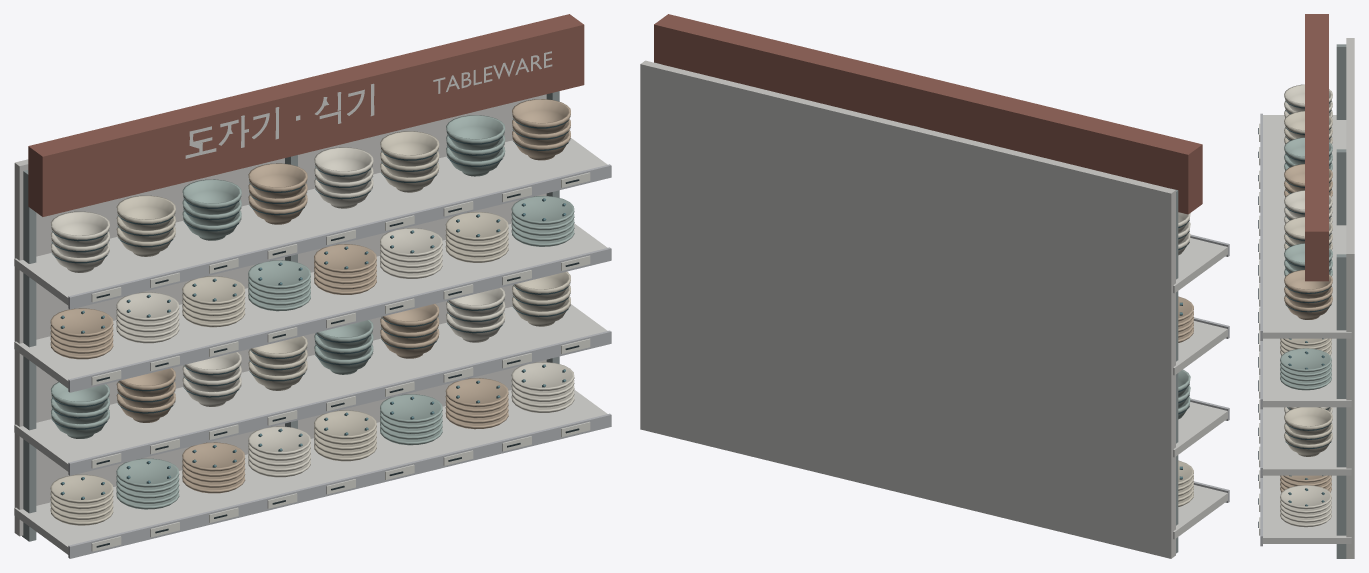
Rendered from Tableware.glb.
3 views of the same model, side by side, from view 1: azimuth 30°, elevation 25°; view 2: azimuth 150°, elevation 25°; view 3: azimuth 270°, elevation 25° (orthographic). The views are drawn at different scales.
Visible parts, largest first — view 1: Tableware; view 2: Tableware; view 3: Tableware.
Boxes of the visible parts, box(x1,y1,x2,y2) form: Tableware: box(14, 14, 611, 558); Tableware: box(640, 14, 1229, 558); Tableware: box(1258, 14, 1354, 558).
Size of the model in its own units: 3 by 2.12 by 0.562.
